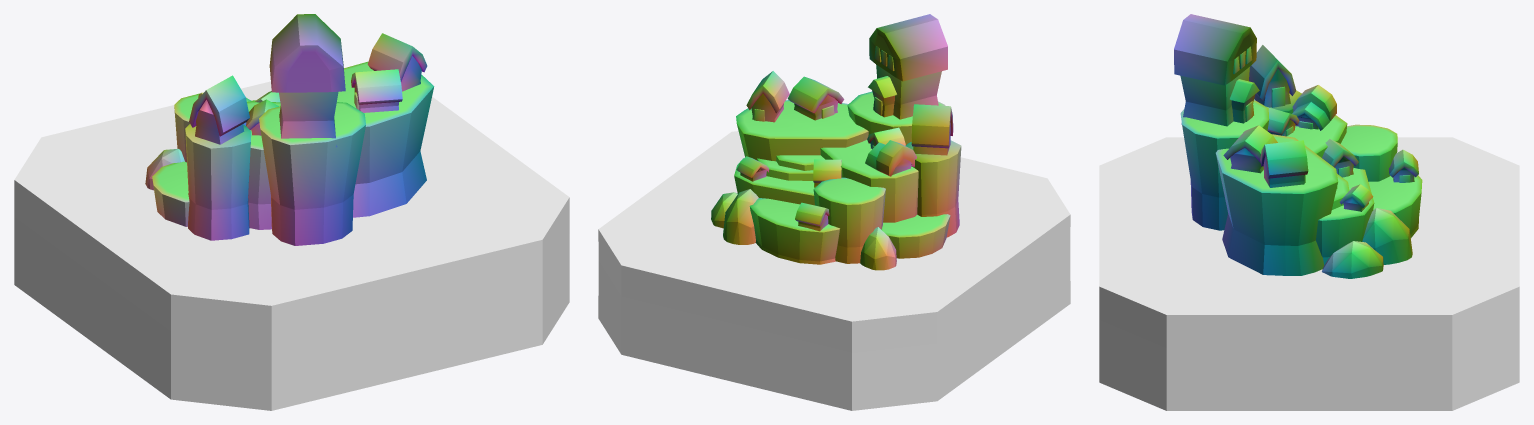
The model's file is Sights_Peru.fbx.
The picture shows the model from 3 angles, left to right: view 1: azimuth 30°, elevation 25°; view 2: azimuth 150°, elevation 25°; view 3: azimuth 270°, elevation 25°; orthographic projection. The views are drawn at different scales.
Parts seen in each view (by area): view 1: Cube.018, Sights_Peru.002; view 2: Cube.018, Sights_Peru.002; view 3: Cube.018, Sights_Peru.002.
Part boxes in pixels (box(x1,y1,x2,y2)): Cube.018: box(14, 81, 569, 410); Sights_Peru.002: box(145, 14, 434, 245); Cube.018: box(598, 131, 1070, 410); Sights_Peru.002: box(711, 14, 961, 270); Cube.018: box(1099, 137, 1519, 410); Sights_Peru.002: box(1174, 14, 1422, 278).
Bounding box in the file's own units: 1.48 × 1.1 × 1.48.
